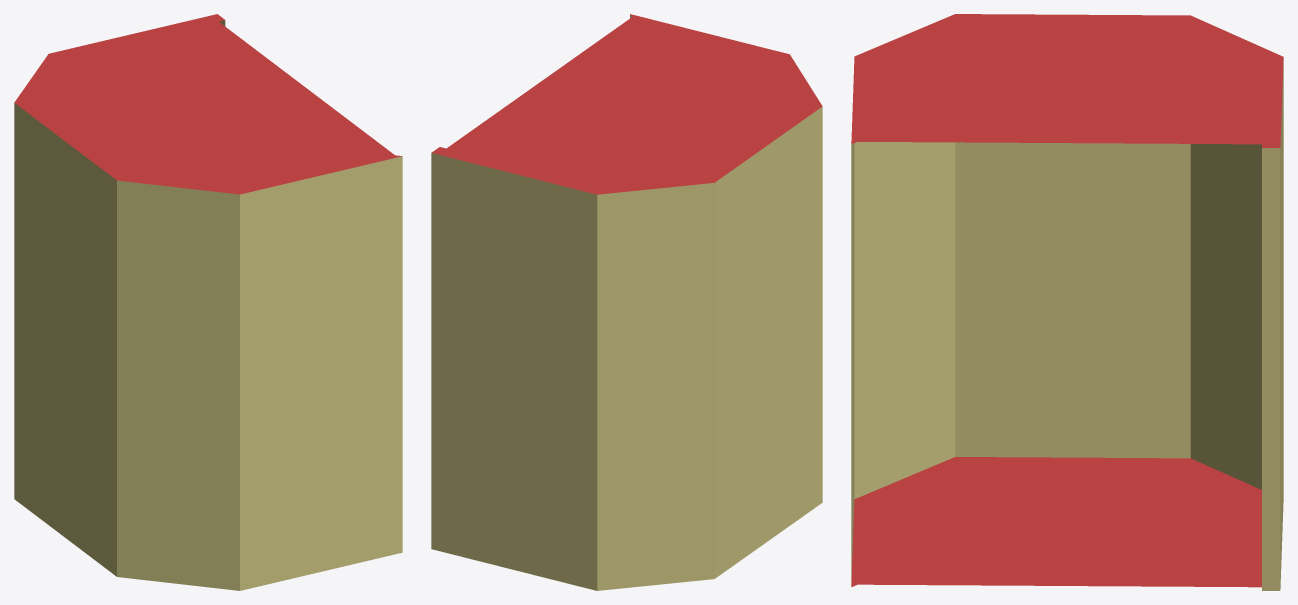
3 renders of one model, left to right at view 1: azimuth 30°, elevation 25°; view 2: azimuth 150°, elevation 25°; view 3: azimuth 270°, elevation 25°, orthographic. The views are drawn at different scales.
Bounding box in the file's own units: 4.91 × 6.69 × 7.57.
